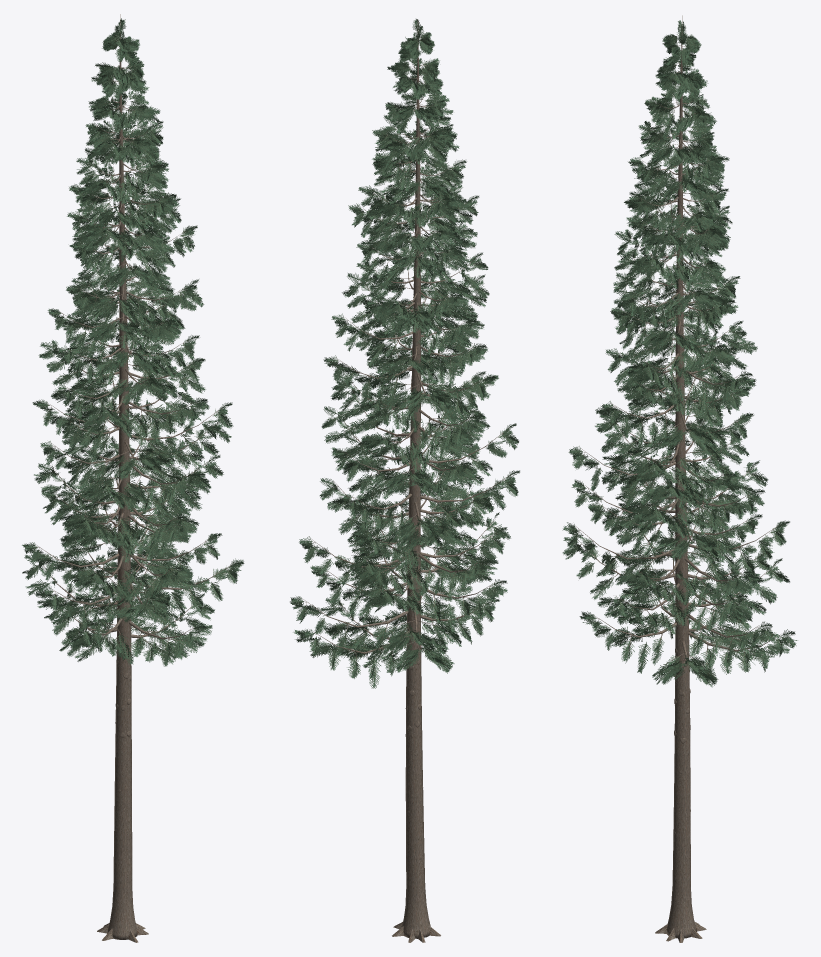
Rendered from Sitka_Mature_Benchmark_01_MediumPruned_Healed_LOD0.fbx.
3 views of the same model, side by side, from view 1: azimuth 30°, elevation 25°; view 2: azimuth 150°, elevation 25°; view 3: azimuth 270°, elevation 25° (orthographic).
Parts seen in each view (by area): view 1: Sitka_Mature_Benchmark_01_MediumPruned_Healed_LOD0_Foliage, Sitka_Mature_Benchmark_01_MediumPruned_Healed_LOD0_Trunk, Sitka_Mature_Benchmark_01_MediumPruned_Healed_LOD0_Branches; view 2: Sitka_Mature_Benchmark_01_MediumPruned_Healed_LOD0_Foliage, Sitka_Mature_Benchmark_01_MediumPruned_Healed_LOD0_Trunk, Sitka_Mature_Benchmark_01_MediumPruned_Healed_LOD0_Branches; view 3: Sitka_Mature_Benchmark_01_MediumPruned_Healed_LOD0_Foliage, Sitka_Mature_Benchmark_01_MediumPruned_Healed_LOD0_Trunk, Sitka_Mature_Benchmark_01_MediumPruned_Healed_LOD0_Branches.
Part boxes in pixels (<box>): Sitka_Mature_Benchmark_01_MediumPruned_Healed_LOD0_Foliage: <box>22,18,244,666</box>; Sitka_Mature_Benchmark_01_MediumPruned_Healed_LOD0_Trunk: <box>97,14,148,942</box>; Sitka_Mature_Benchmark_01_MediumPruned_Healed_LOD0_Branches: <box>37,35,233,647</box>; Sitka_Mature_Benchmark_01_MediumPruned_Healed_LOD0_Foliage: <box>290,19,519,688</box>; Sitka_Mature_Benchmark_01_MediumPruned_Healed_LOD0_Trunk: <box>392,19,440,942</box>; Sitka_Mature_Benchmark_01_MediumPruned_Healed_LOD0_Branches: <box>300,38,508,661</box>; Sitka_Mature_Benchmark_01_MediumPruned_Healed_LOD0_Foliage: <box>562,20,797,687</box>; Sitka_Mature_Benchmark_01_MediumPruned_Healed_LOD0_Trunk: <box>655,15,706,942</box>; Sitka_Mature_Benchmark_01_MediumPruned_Healed_LOD0_Branches: <box>576,37,784,667</box>.
Size of the model in its own units: 580 by 2600 by 644.
